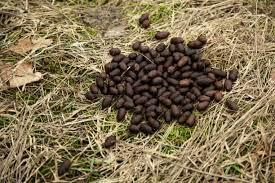Elk: (100, 39, 207, 114)
